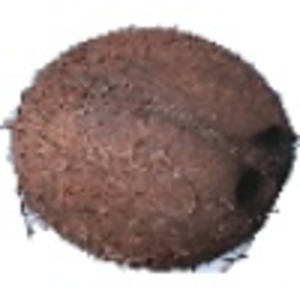coco: (1, 27, 300, 274)
